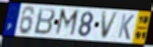6: (18, 5, 35, 36)
8: (78, 11, 94, 38)
B: (33, 7, 57, 36)
K: (117, 13, 136, 42)
M: (53, 7, 81, 38)
V: (101, 11, 121, 41)
